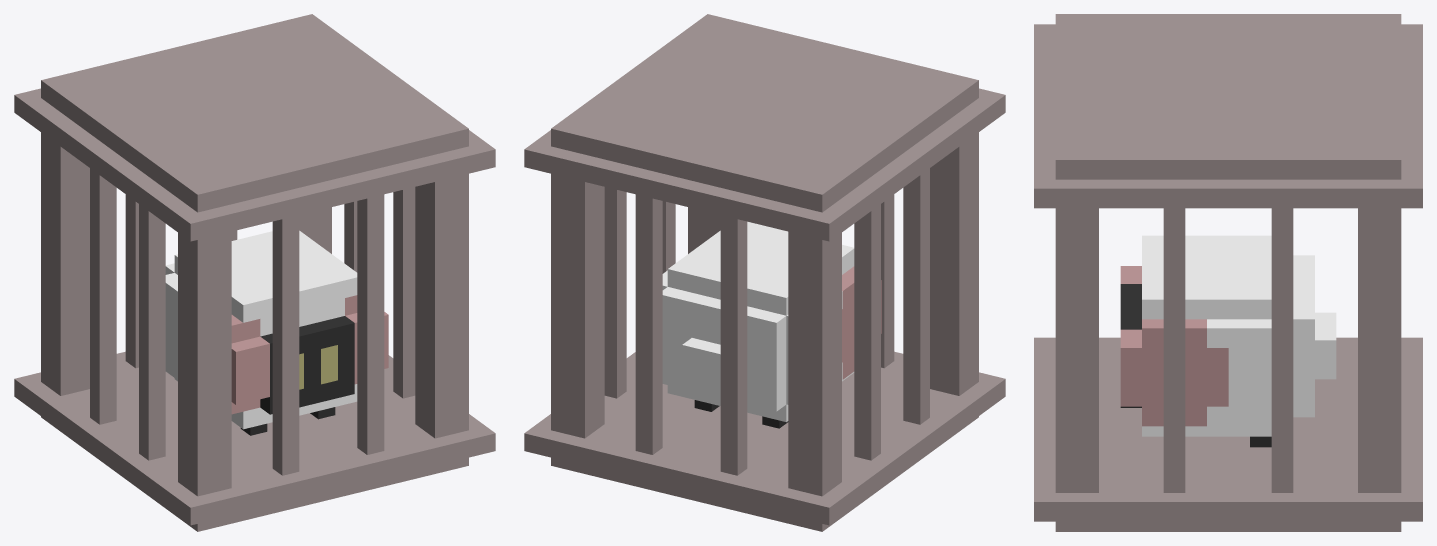
Rendered from sheepCage.obj.
3 views of the same model, side by side, from view 1: azimuth 30°, elevation 25°; view 2: azimuth 150°, elevation 25°; view 3: azimuth 270°, elevation 25° (orthographic). The views are drawn at different scales.
Bounding box in the file's own units: 1.8 × 1.9 × 1.8.
1 material, 1 textured.
